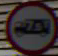Heavy Vehicles: (6, 1, 54, 47)
